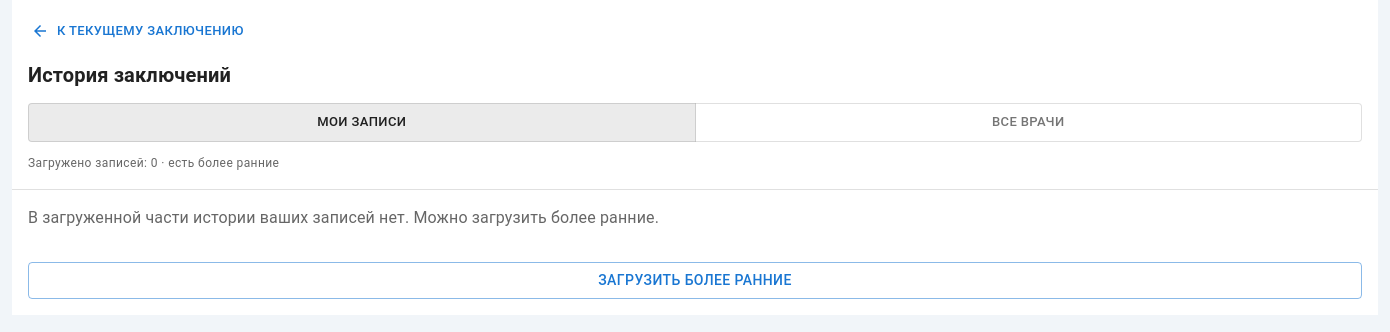
Test: patient history in a visit › loads earlier pages even when the first page has no records by this doctor
Click the button "Загрузить более ранние".
click(695, 281)  # box x1=28 y1=262 x2=1362 y2=299
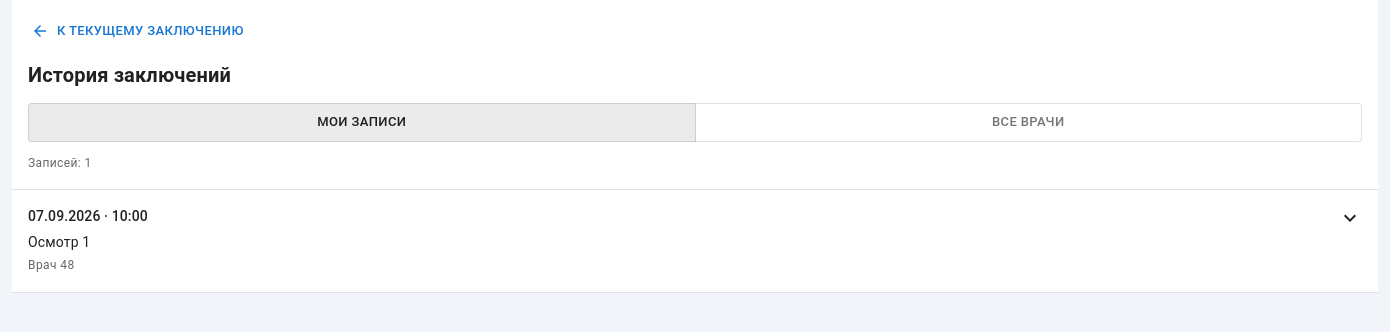
Expected: the text "Осмотр 1" is shown, x1=28 y1=234 x2=90 y2=250
